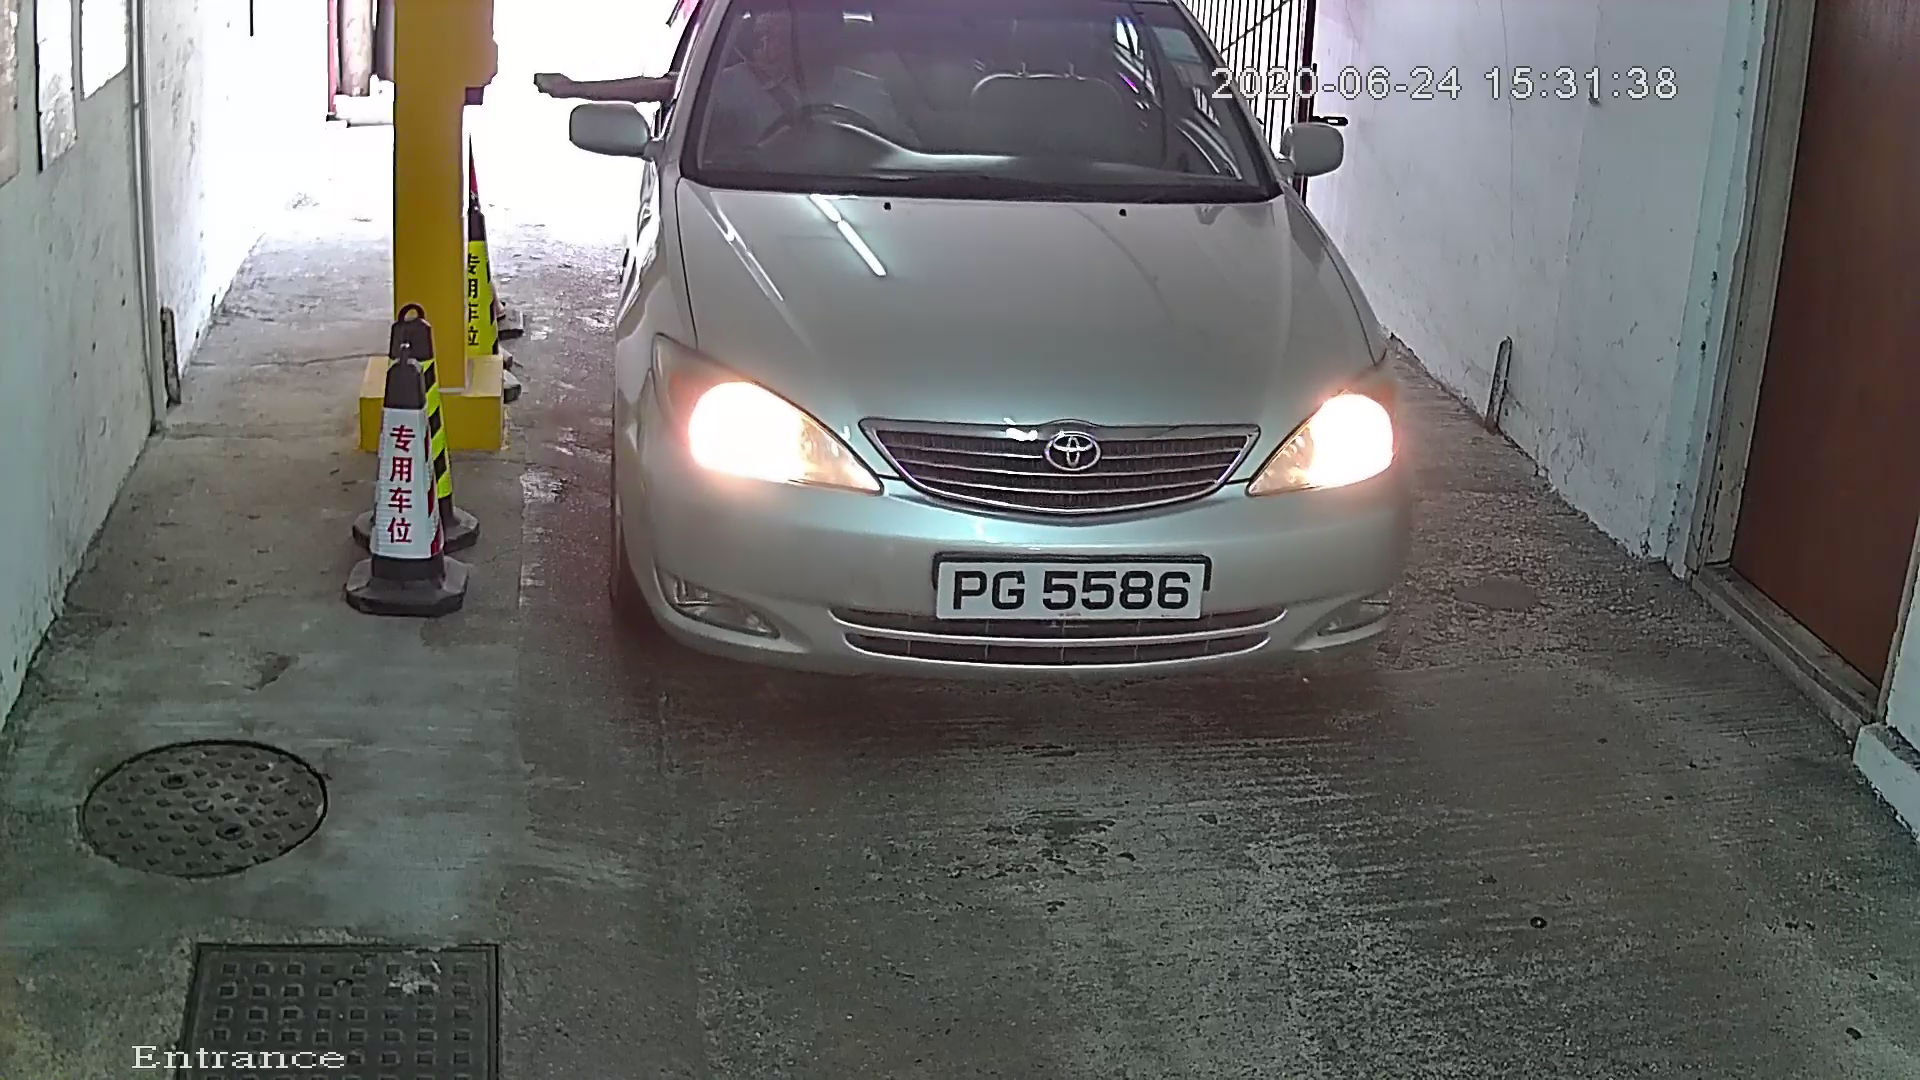Car: (558, 1, 1458, 752)
License Plate: (924, 541, 1222, 637)
